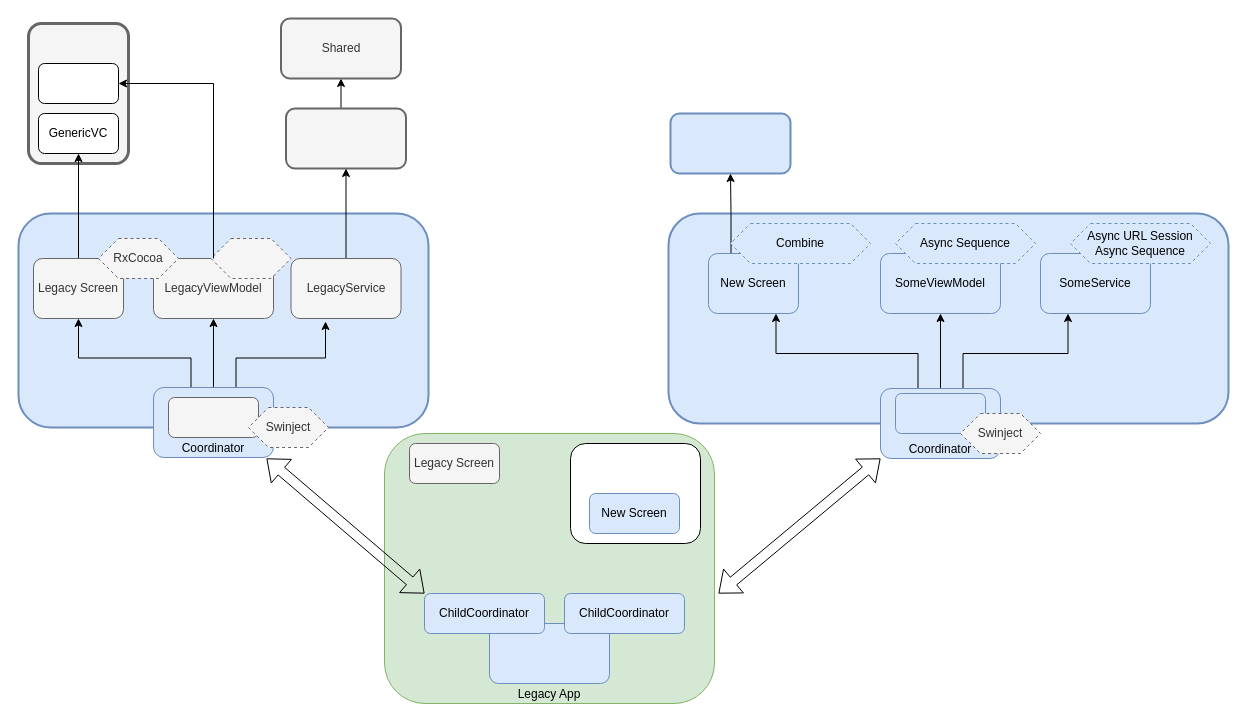
This 1246x721 diagram has some shape labels left out. The shapes that lost their labels are listed below. From the top down, each one's box as (x1, y1, x2, y2) in pixels, then its label:
(38, 62, 118, 104): GenericVM
(26, 22, 130, 164): WL-MVVM
(284, 107, 406, 169): Core
(669, 112, 791, 174): DesignSystem
(210, 238, 291, 278): Rx
(168, 396, 258, 438): Legacy Story assembly
(894, 392, 986, 434): New Story assembly
(570, 442, 700, 544): UIKit UIHostingController
(488, 622, 610, 684): MainCoordinator
